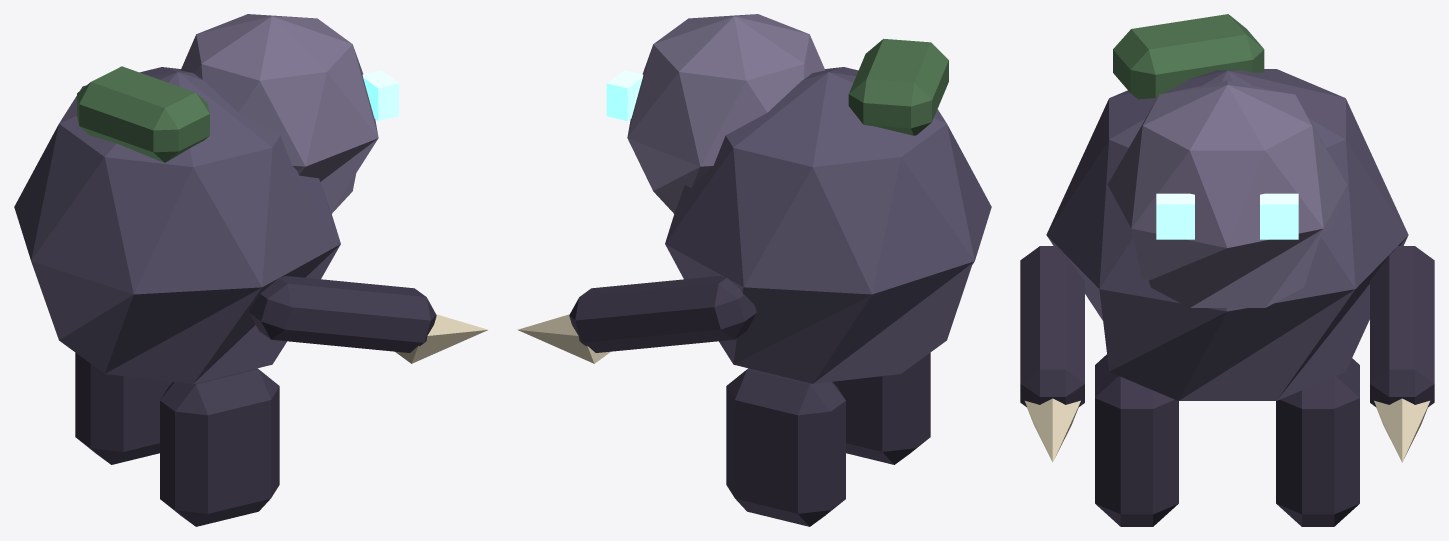
The model's file is husk.glb.
3 views of the same model, side by side, from view 1: azimuth 30°, elevation 25°; view 2: azimuth 150°, elevation 25°; view 3: azimuth 270°, elevation 25° (orthographic). The views are drawn at different scales.
Parts seen in each view (by area): view 1: husk; view 2: husk; view 3: husk.
Boxes of the visible parts, x1=… form: husk: x1=14, y1=14, x2=488, y2=526; husk: x1=517, y1=14, x2=991, y2=526; husk: x1=1020, y1=14, x2=1434, y2=526.
Size of the model in its own units: 0.7188 by 0.81 by 0.64.
